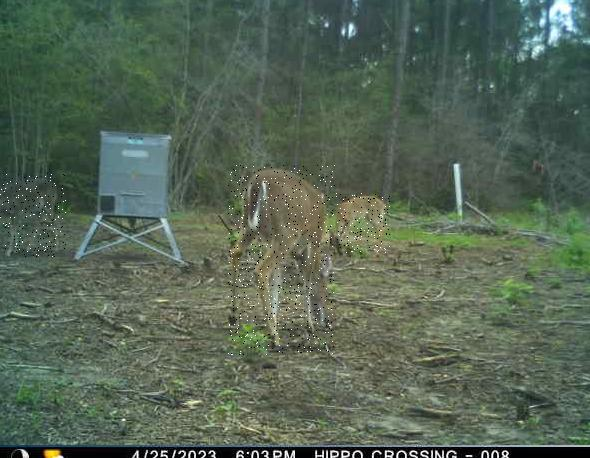Deer: (228, 165, 335, 355), (0, 173, 66, 257), (330, 194, 391, 254)
